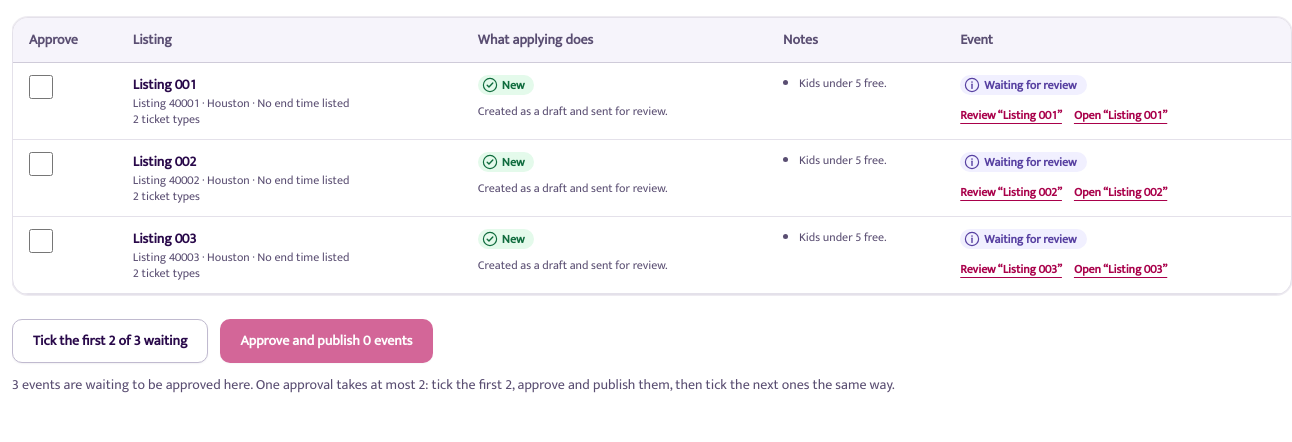
Test case: a run of many listings › refuses, before sending, more boxes ticked by hand than one request takes
The image size is (1292, 442).
Click the checkbox named "Approve “Listing 001”" at (41, 87), box [29,75,53,99]
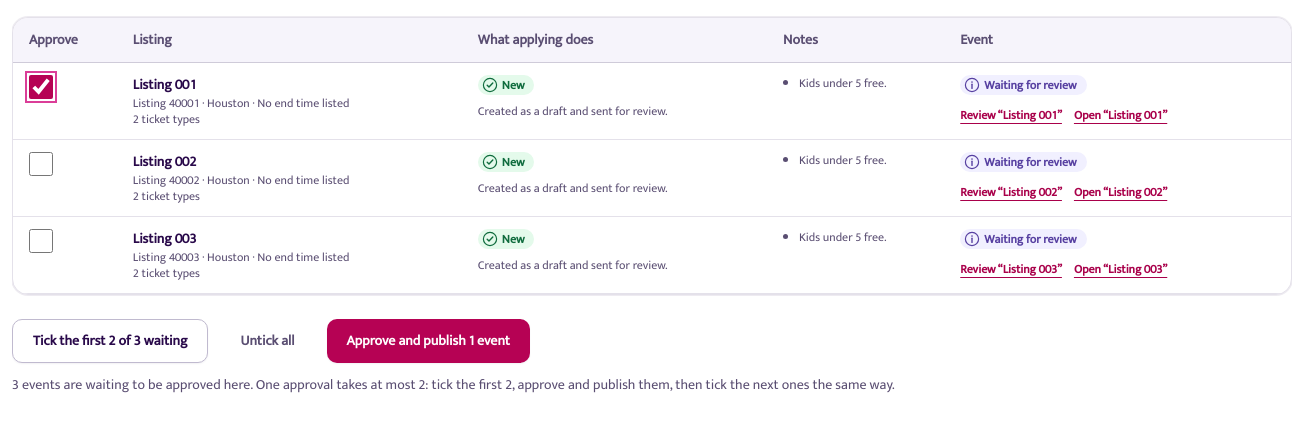
Click the checkbox named "Approve “Listing 002”" at (41, 164), box [29,152,53,176]
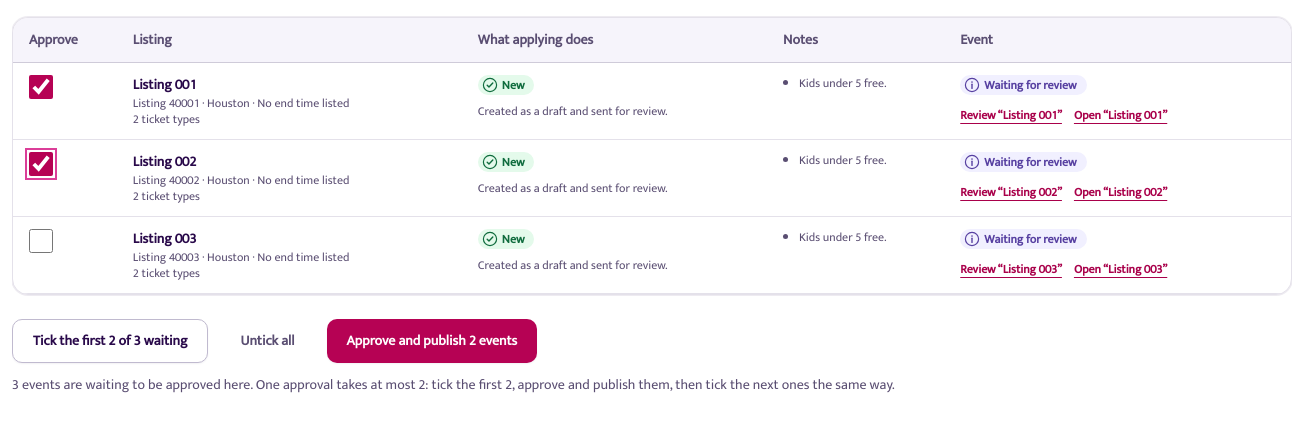
Click the checkbox named "Approve “Listing 003”" at (41, 241), box [29,229,53,253]
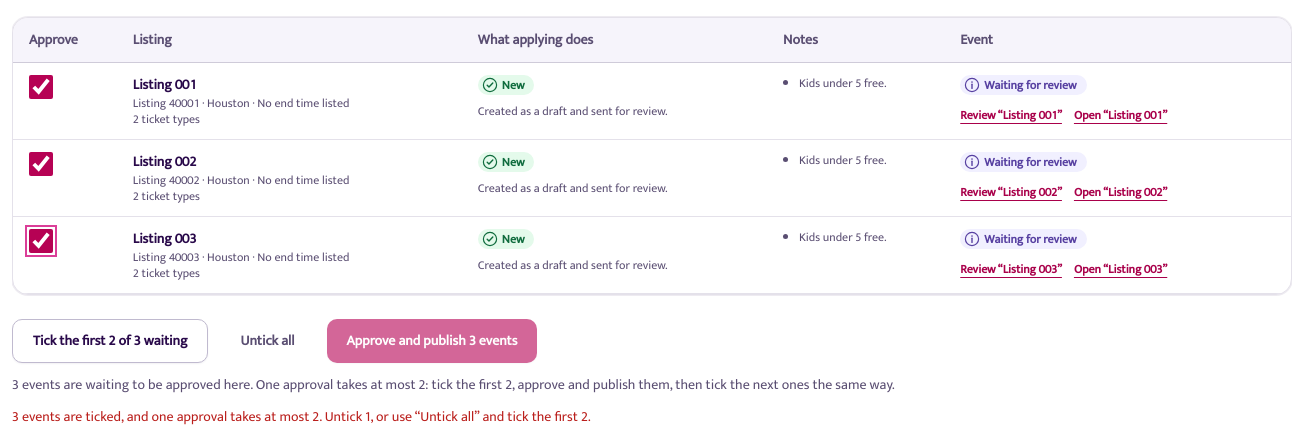
expect the button "Approve and publish 3 events" is disabled: met, box [326,319,537,363]
